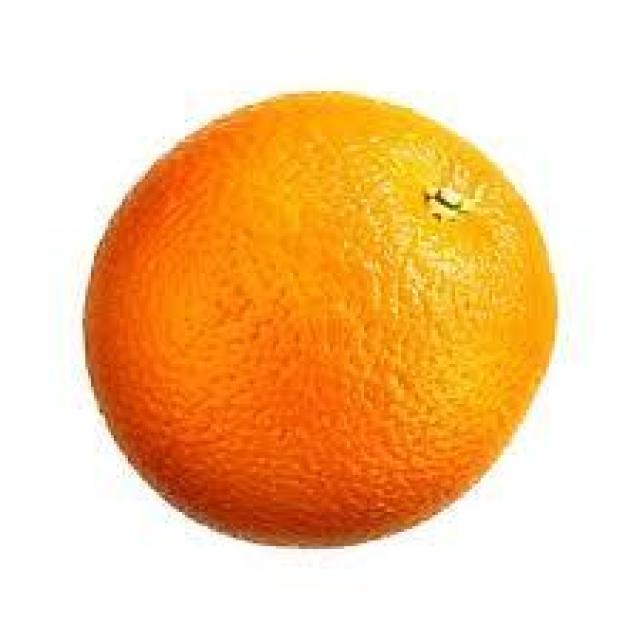Good_Orange: (80, 91, 560, 552)
